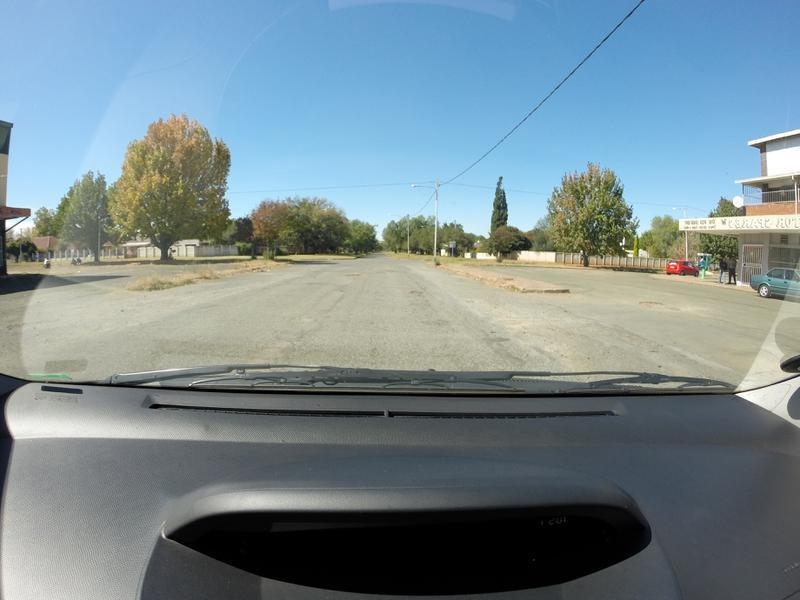pothole: (629, 292, 674, 315), (332, 267, 355, 281)
